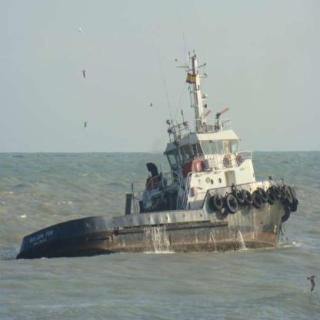Tug Boat: (19, 78, 296, 253)
